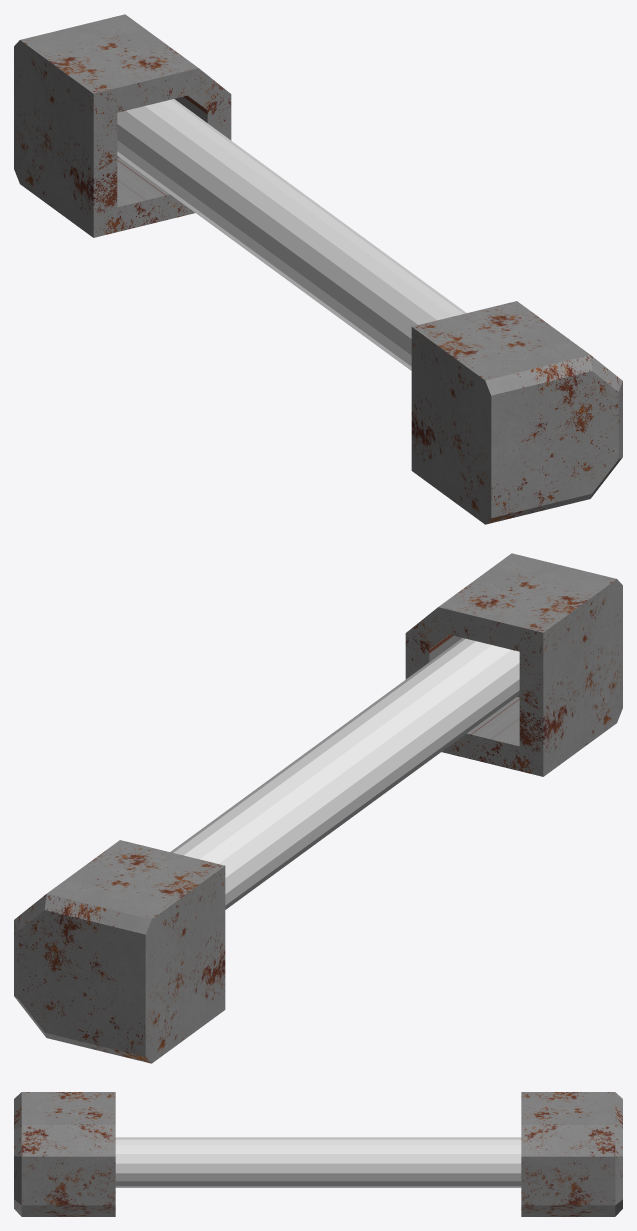
The model's file is lamp1.glb.
The picture shows the model from 3 angles, top to bottom: view 1: azimuth 30°, elevation 25°; view 2: azimuth 150°, elevation 25°; view 3: azimuth 270°, elevation 25°; orthographic projection. The views are drawn at different scales.
Visible parts, largest first — view 1: body, lamp; view 2: body, lamp; view 3: body, lamp.
Part boxes in pixels (bbox=[...]): body: bbox=[14, 14, 622, 524]; lamp: bbox=[117, 99, 466, 370]; body: bbox=[14, 553, 622, 1063]; lamp: bbox=[170, 638, 519, 909]; body: bbox=[14, 1092, 622, 1216]; lamp: bbox=[115, 1137, 521, 1187].
Bounding box in the file's own units: 2 × 2 × 12.
1 material, 1 textured.
